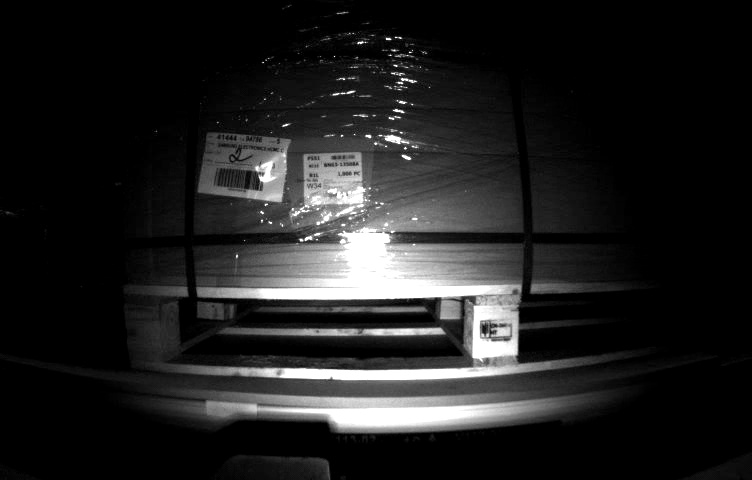True Barcode: (301, 149, 364, 206)
